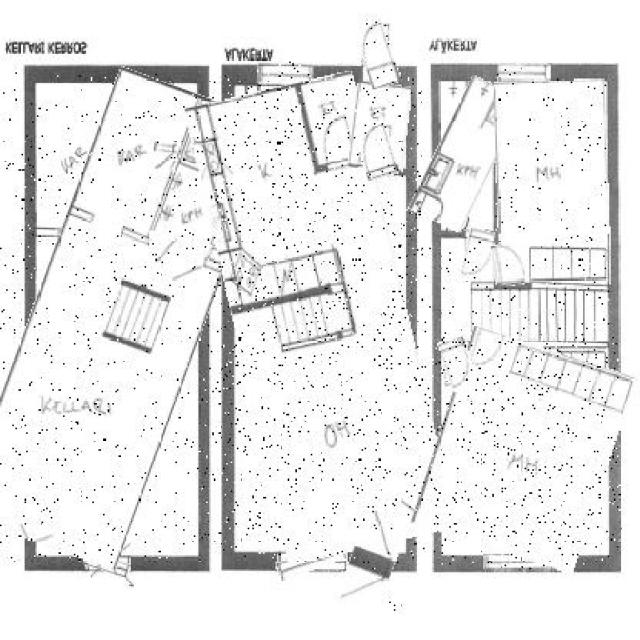door: (343, 510, 402, 612), (357, 18, 395, 88), (357, 124, 395, 178), (440, 337, 475, 392), (463, 229, 494, 282), (492, 242, 525, 286), (151, 230, 178, 264), (152, 142, 175, 172)
window: (277, 546, 348, 574), (257, 62, 314, 83), (483, 557, 555, 572), (84, 554, 130, 574), (498, 63, 551, 80)
zone: (0, 72, 237, 562), (211, 77, 431, 558), (424, 337, 622, 565), (496, 79, 610, 286), (440, 234, 609, 341), (423, 77, 509, 231), (349, 83, 409, 172)
